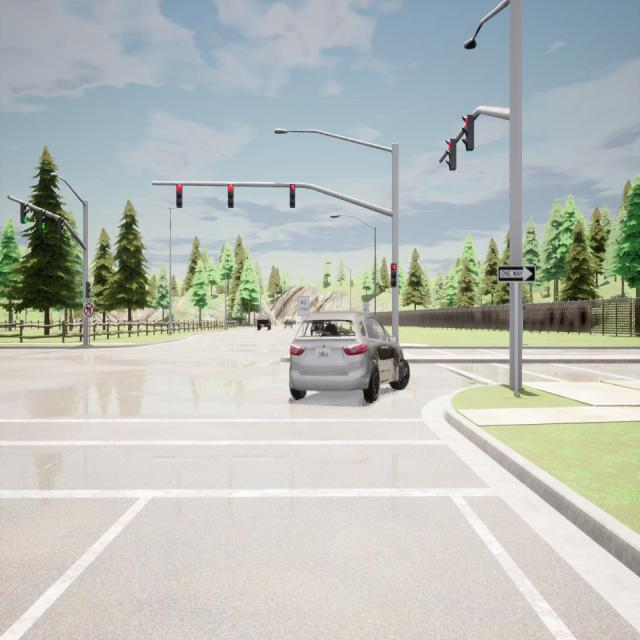Traffic_Signs: (498, 265, 536, 283), (297, 297, 309, 315), (84, 302, 95, 318), (363, 302, 369, 312)
Vehicle: (290, 311, 410, 402), (257, 316, 271, 330), (283, 317, 293, 329)
traffic_light: (461, 114, 474, 150), (444, 138, 456, 171), (227, 184, 234, 208), (21, 202, 28, 224), (38, 210, 46, 229), (176, 184, 182, 208), (289, 184, 295, 208), (391, 264, 396, 288), (85, 282, 92, 298), (58, 217, 64, 235)
